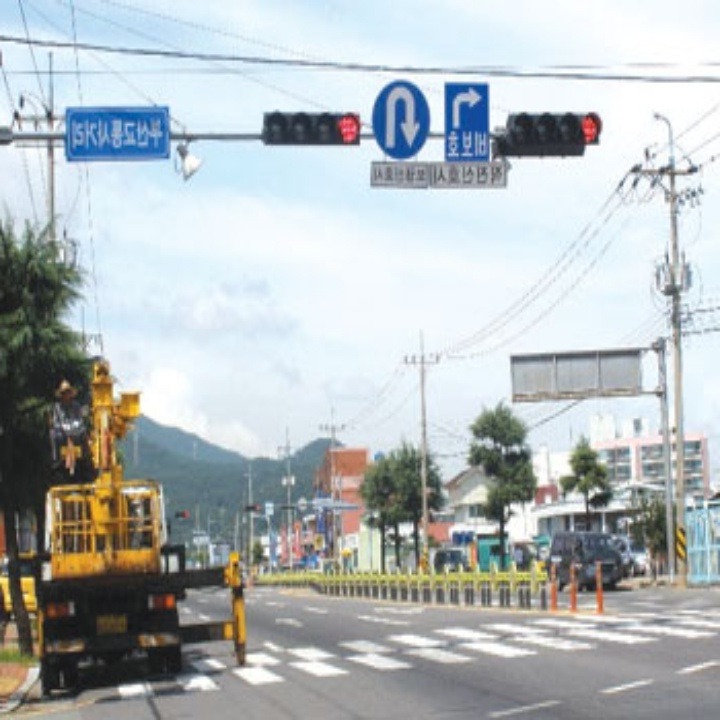right: (444, 84, 490, 131)
